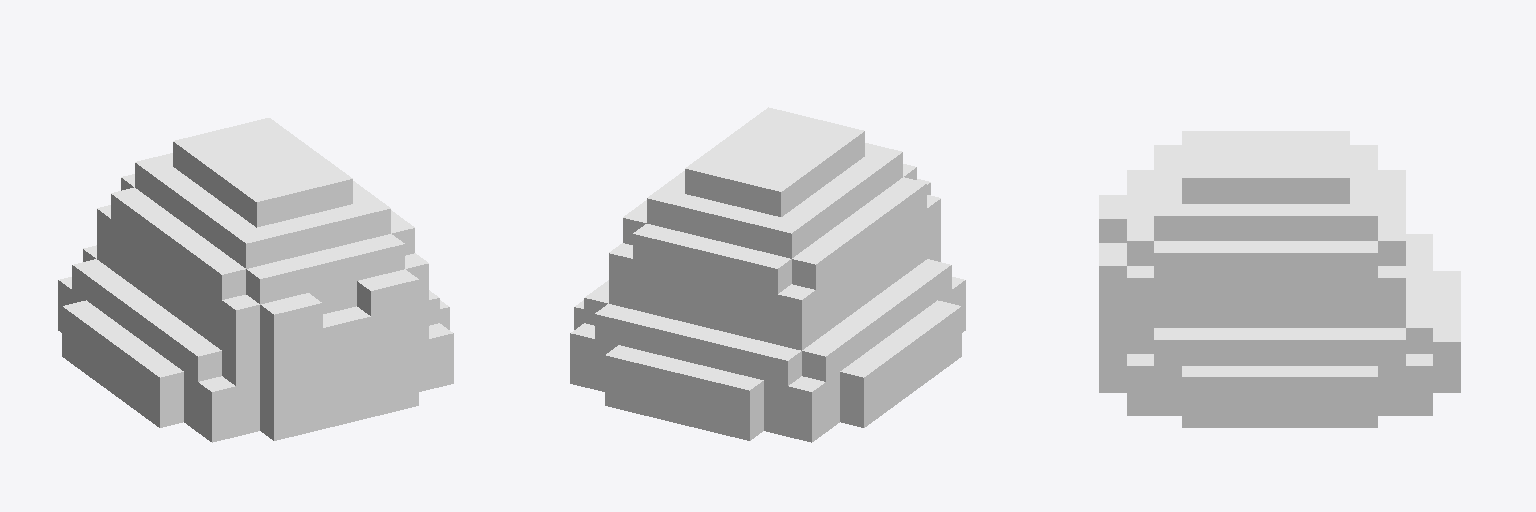
The model's file is Slime.obj.
3 renders of one model, left to right at view 1: azimuth 30°, elevation 25°; view 2: azimuth 150°, elevation 25°; view 3: azimuth 270°, elevation 25°, orthographic.
Bounding box in the file's own units: 12 × 8 × 13.